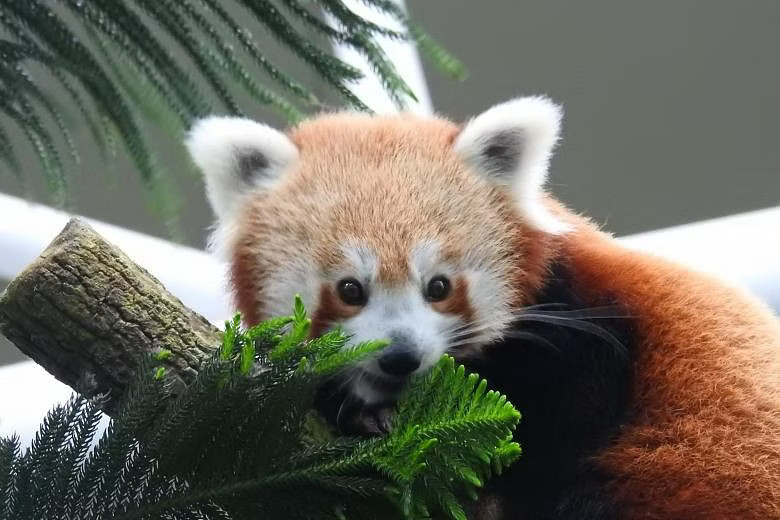Red panda: (184, 99, 563, 393)
